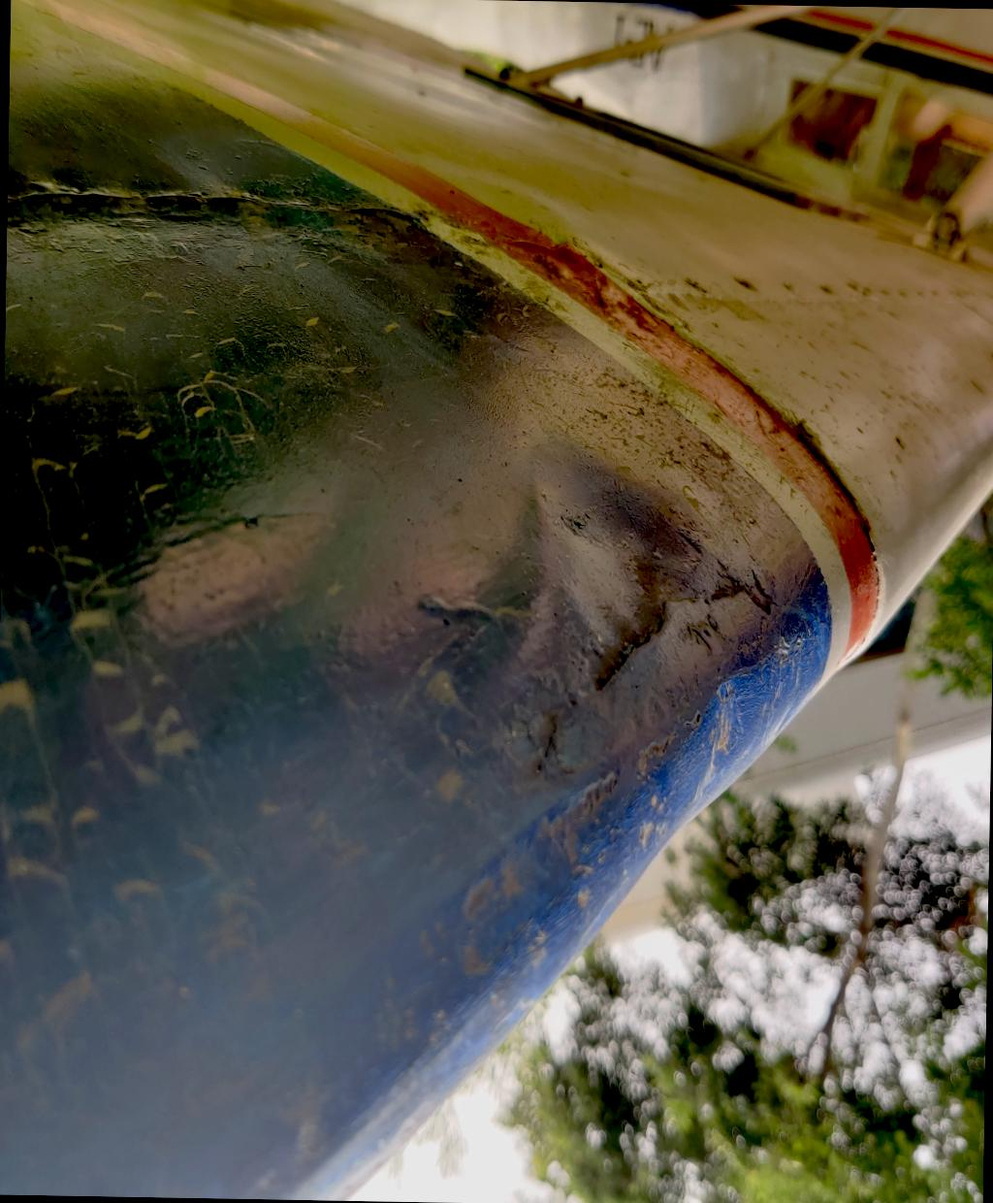dent: (354, 382, 735, 836)
